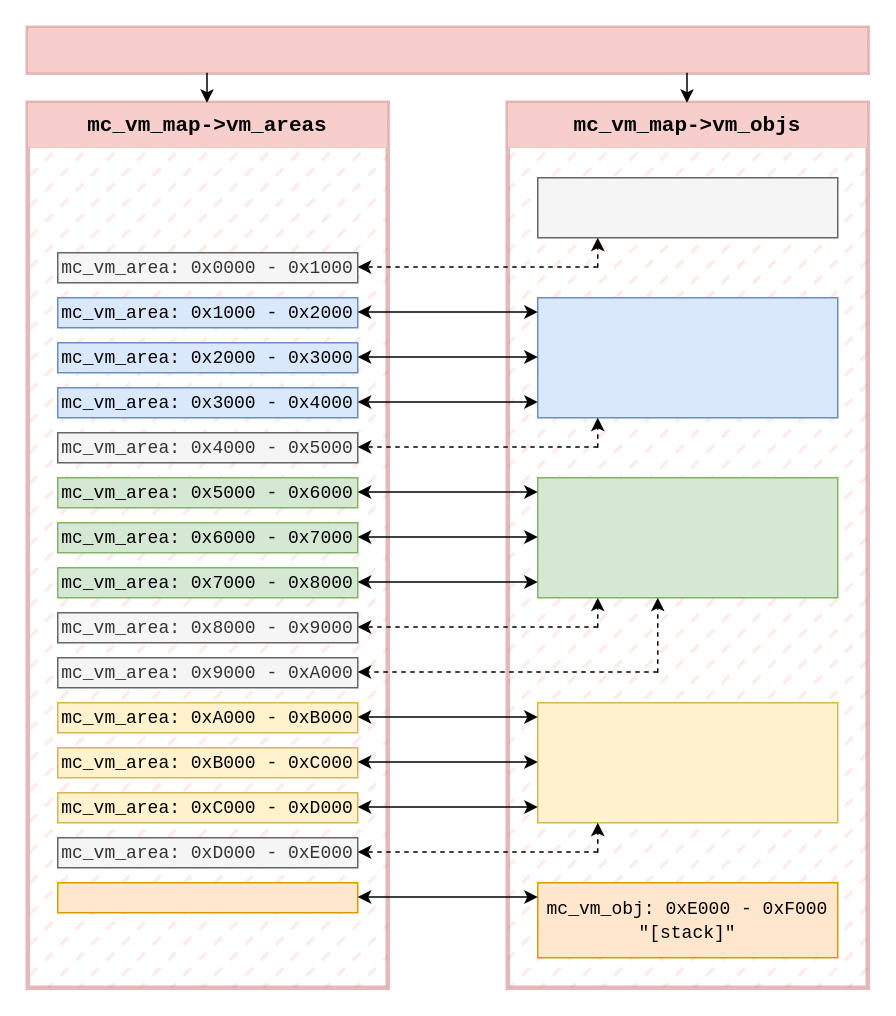
The diagram is 896 pixels wide and 1016 high, and some of its shapes have lost their labels. The box of each missing label's shape, as (x1, y1, x2, y2) in pixels:
mc_ vm_obj: 0x0000 - 0x0000 "0x0" [pseudo object]: (536, 176, 838, 238)
mc_ vm_obj: 0x1000 - 0x4000 "/bin/foo": (536, 296, 838, 418)
mc_ vm_obj: 0x5000 - 0x8000 "/lib/bar.so": (536, 476, 838, 598)
mc_ vm_obj: 0xA000 - 0xD000 "/lib/ld-linux.so": (536, 701, 838, 823)
mc_vm_area: 0xE000 - 0xF000: (56, 881, 358, 913)
mc_vm_map: (27, 27, 867, 72)
